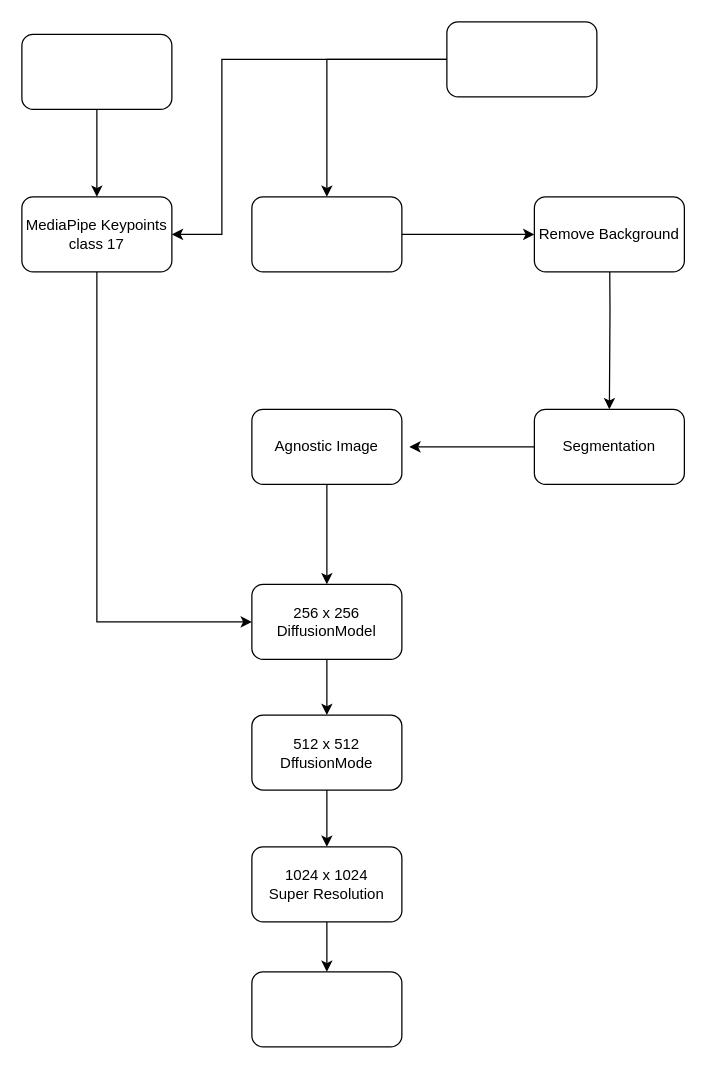
This 706x1069 diagram has some shape labels left out. Here are the shapes that lost their labels. From the top down, the box of each, then its label:
(21, 33, 172, 109): 사용자 원본 이미지
(446, 21, 597, 97): 타겟의류
(251, 196, 402, 272): Segementation Class 20
(251, 971, 402, 1047): Restor Orginal Image Ratio
